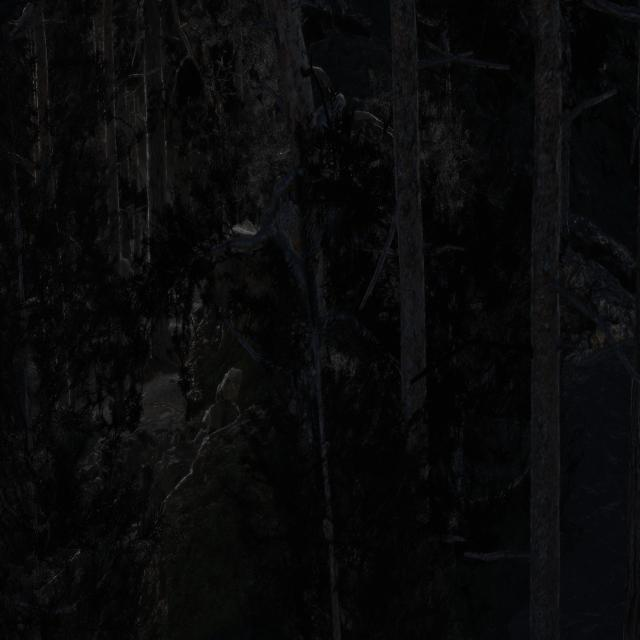Human: (256, 338, 287, 425)
